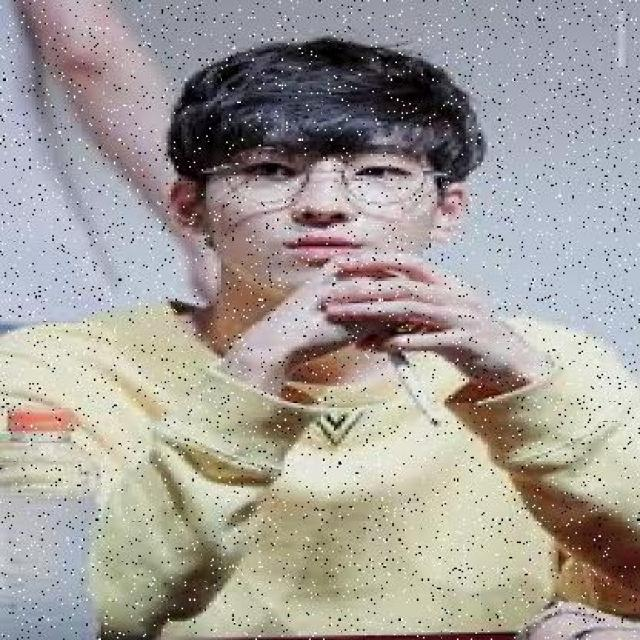glasses: (213, 135, 452, 216)
